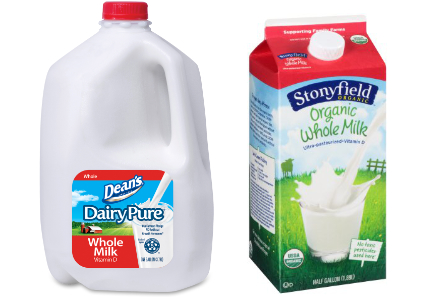milk: (42, 4, 215, 291)
